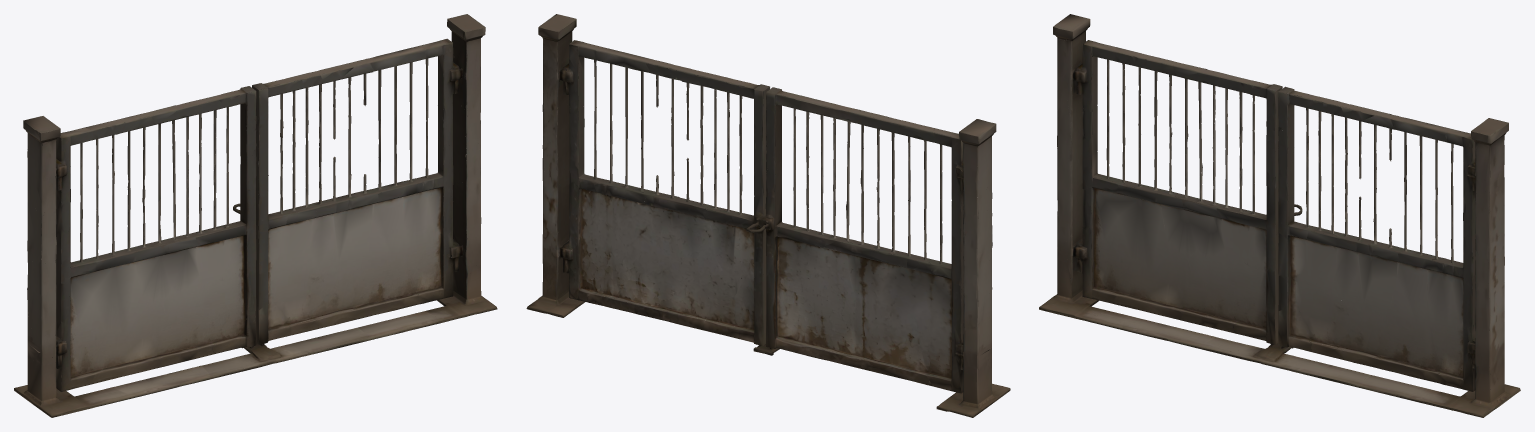
File: Gate.fbx
The picture shows the model from 3 angles, left to right: view 1: azimuth 30°, elevation 25°; view 2: azimuth 150°, elevation 25°; view 3: azimuth 330°, elevation 25°; orthographic projection.
Parts seen in each view (by area): view 1: tripo_node_897ae1a1-d379-4a06-a473-6f4e67b144db; view 2: tripo_node_897ae1a1-d379-4a06-a473-6f4e67b144db; view 3: tripo_node_897ae1a1-d379-4a06-a473-6f4e67b144db.
Part boxes in pixels (x1=…): tripo_node_897ae1a1-d379-4a06-a473-6f4e67b144db: x1=14, y1=14, x2=497, y2=417; tripo_node_897ae1a1-d379-4a06-a473-6f4e67b144db: x1=526, y1=14, x2=1010, y2=417; tripo_node_897ae1a1-d379-4a06-a473-6f4e67b144db: x1=1039, y1=14, x2=1520, y2=417.
Size of the model in its own units: 98.1 by 57.81 by 14.43.
Materials: 1 (1 with a texture image).
